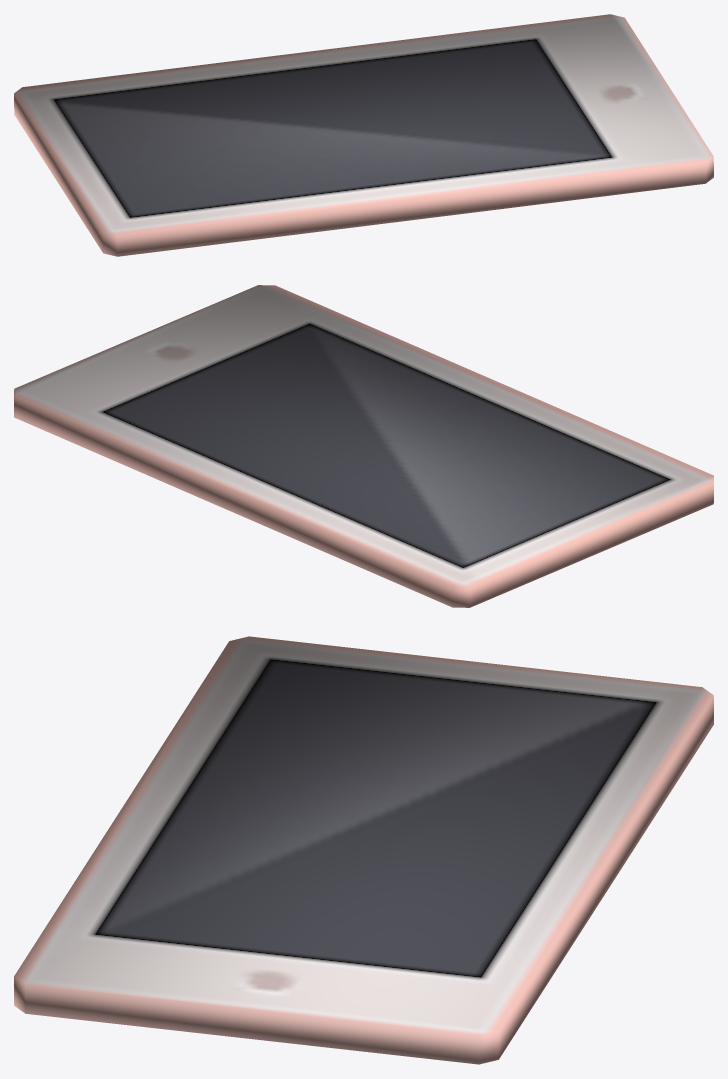
Rendered from SiWangPenQuan_01_shouji_01.FBX.
3 renders of one model, top to bottom at view 1: azimuth 30°, elevation 25°; view 2: azimuth 150°, elevation 25°; view 3: azimuth 270°, elevation 25°, orthographic. The views are drawn at different scales.
Visible parts, largest first — view 1: SiWangPenQuan_01_shouji_01; view 2: SiWangPenQuan_01_shouji_01; view 3: SiWangPenQuan_01_shouji_01.
Boxes of the visible parts, left/top/right/bottom form: SiWangPenQuan_01_shouji_01: left=14, top=14, right=713, bottom=256; SiWangPenQuan_01_shouji_01: left=14, top=285, right=713, bottom=607; SiWangPenQuan_01_shouji_01: left=14, top=636, right=713, bottom=1064.
Bounding box in the file's own units: 63.53 × 2.72 × 46.15.
